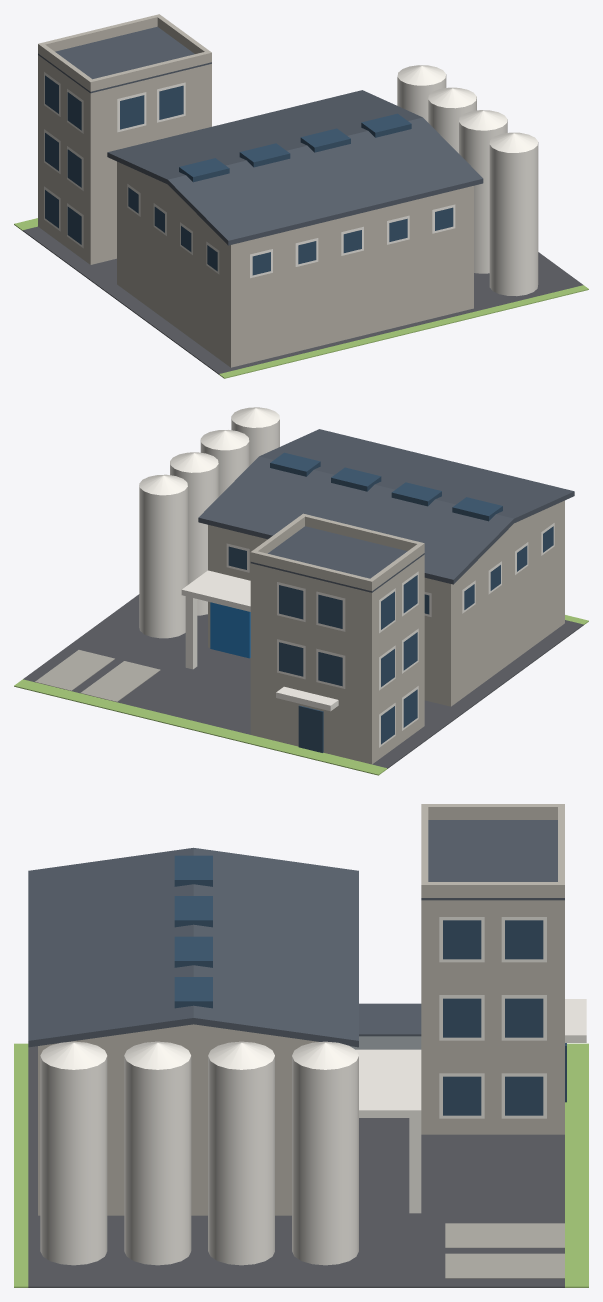
3 views of the same model, one above another, from view 1: azimuth 30°, elevation 25°; view 2: azimuth 150°, elevation 25°; view 3: azimuth 270°, elevation 25° (orthographic). The views are drawn at different scales.
Visible parts, largest first — view 1: wall, roof (×3), office, tank (×4), asphalt, parapet (×4), tank_top (×4), roof_light (×4), lawn, window_glass (×2); view 2: roof (×3), office, wall, asphalt, tank (×4), parapet (×4), lawn, parking_bay (×2), tank_top (×4), roof_light (×4), window_glass (×4), canopy (×2) (+3 smaller); view 3: roof (×4), tank (×4), asphalt, office, wall, lawn (×2), window_glass (×6), parking_bay (×2), tank_top (×4), parapet (×4), canopy (×2), roof_light (×4) (+4 smaller).
Part boxes in pixels (<box>): wall: <box>117,161,473,367</box>; roof (×3): <box>38,26,483,245</box>; office: <box>38,55,211,264</box>; tank (×4): <box>397,74,538,296</box>; asphalt: <box>22,226,583,374</box>; parapet (×4): <box>38,14,211,91</box>; tank_top (×4): <box>397,65,538,152</box>; roof_light (×4): <box>179,113,411,182</box>; lawn: <box>219,285,588,378</box>; window_glass (×2): <box>120,85,183,129</box>; roof (×3): <box>198,429,574,592</box>; office: <box>250,554,424,764</box>; wall: <box>208,500,564,706</box>; asphalt: <box>23,594,583,768</box>; tank (×4): <box>139,417,279,638</box>; parapet (×4): <box>250,513,424,590</box>; lawn: <box>14,679,387,775</box>; parking_bay (×2): <box>35,650,160,702</box>; tank_top (×4): <box>139,407,279,495</box>; roof_light (×4): <box>270,452,502,521</box>; window_glass (×4): <box>279,585,342,686</box>; canopy (×2): <box>181,570,338,711</box>; roof (×4): <box>28,820,564,1047</box>; tank (×4): <box>40,1056,358,1265</box>; asphalt: <box>28,1046,564,1287</box>; office: <box>421,900,564,1134</box>; wall: <box>38,1042,318,1215</box>; lawn (×2): <box>14,1043,588,1287</box>; window_glass (×6): <box>443,920,543,1115</box>; parking_bay (×2): <box>445,1223,564,1278</box>; tank_top (×4): <box>40,1041,358,1069</box>; parapet (×4): <box>421,804,564,897</box>; canopy (×2): <box>356,999,586,1117</box>; roof_light (×4): <box>174,855,212,1008</box>.
Size of the model in its own units: 24 by 11.56 by 24.
